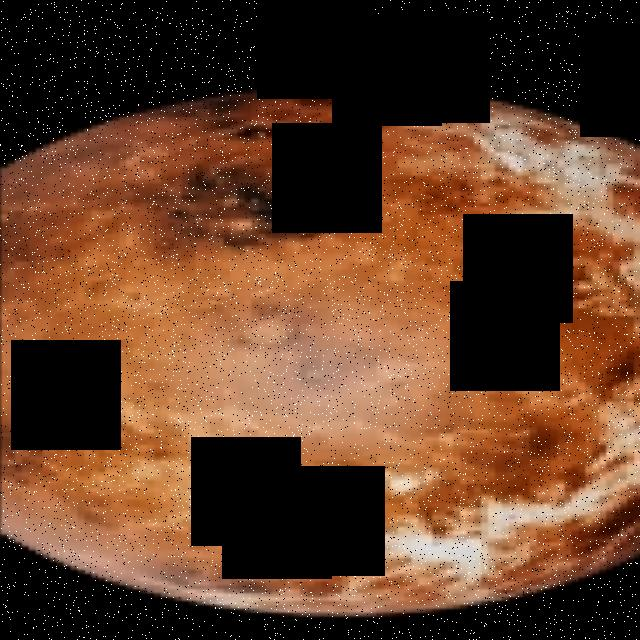Venus: (0, 83, 640, 616)
